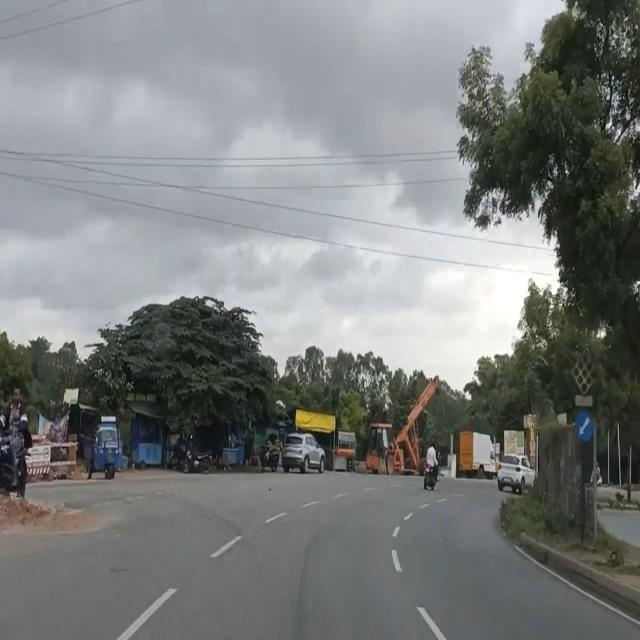bien_hieu_lenh: (572, 408, 594, 444)
